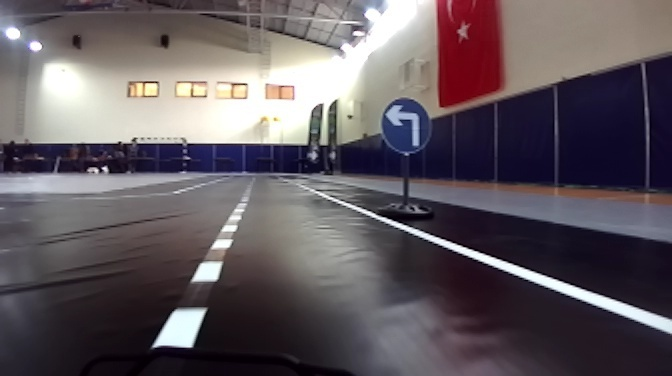sola_donus: (381, 100, 433, 152)
